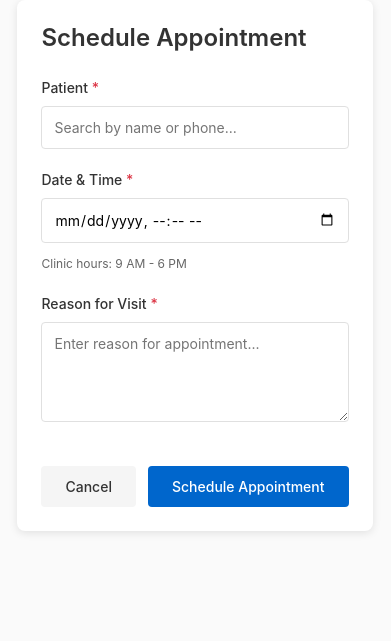
it: ScheduleAppointmentForm › Form Validation › should show all validation errors on submit
The image size is (391, 641).
Step 1. Click the button "Schedule Appointment" → (248, 486), box x1=148 y1=466 x2=349 y2=507
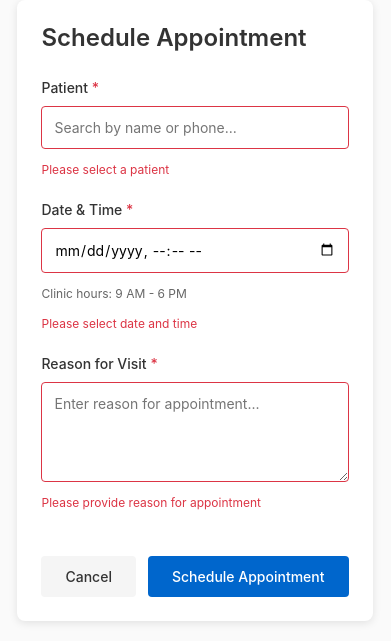
Check: the text "Please select a patient" is shown, box x1=42 y1=162 x2=169 y2=177
Check: the text "Please select date and time" is shown, box x1=42 y1=316 x2=197 y2=331
Check: the text "Please provide reason for appointment" is shown, box x1=42 y1=495 x2=261 y2=510
